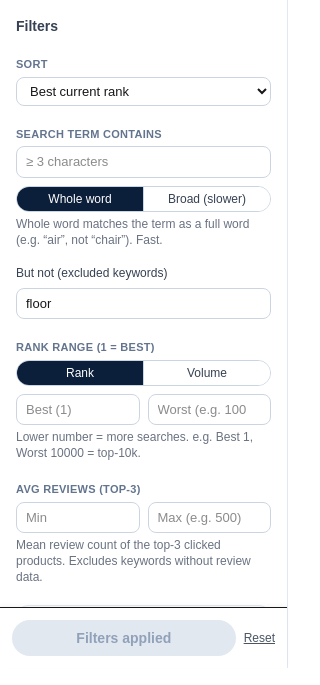
exclude terms ("But not") › Reset clears the exclude terms
Expected: the field labelled "But not (excluded keywords)" holds "floor", x1=16 y1=288 x2=271 y2=319
Click the button "Reset" at (259, 638), box x1=244 y1=630 x2=275 y2=646
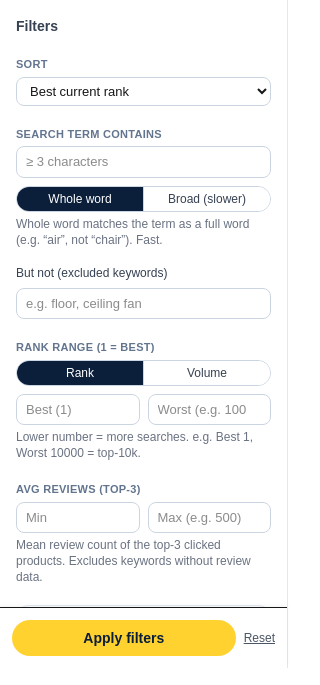
Expected: the field labelled "But not (excluded keywords)" is empty, x1=16 y1=288 x2=271 y2=319
